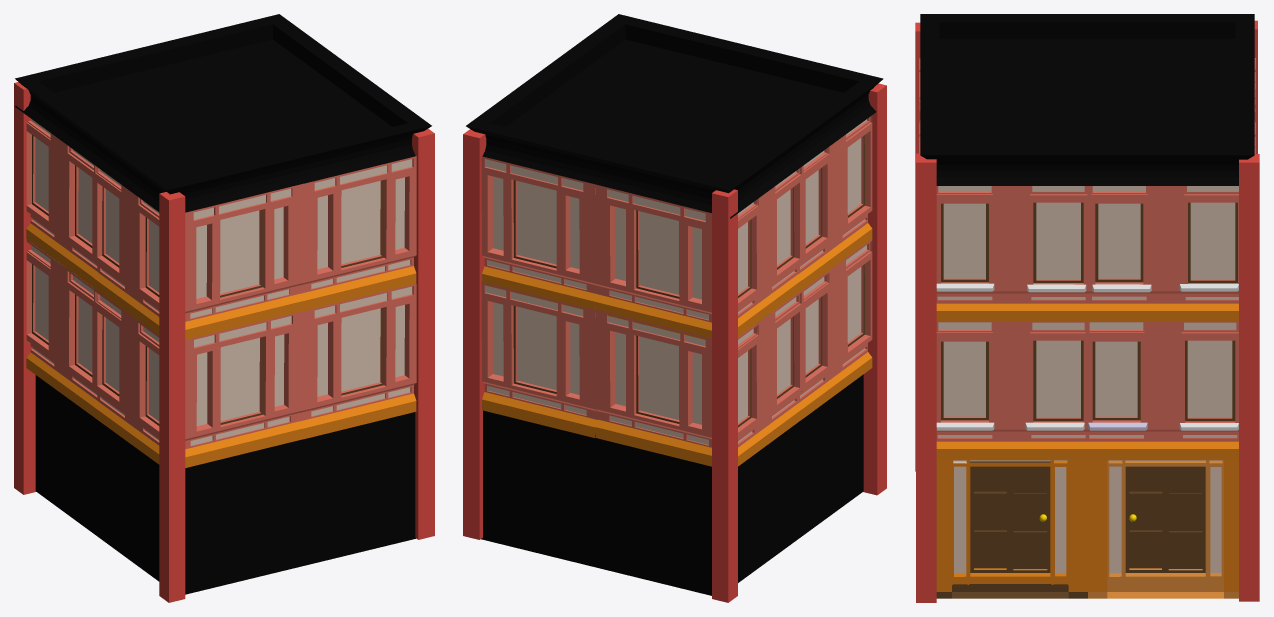
Rendered from blgd_orangetall.fbx.
3 renders of one model, left to right at view 1: azimuth 30°, elevation 25°; view 2: azimuth 150°, elevation 25°; view 3: azimuth 270°, elevation 25°, orthographic. The views are drawn at different scales.
Parts seen in each view (by area): view 1: Cube.008, Plane.017, Plane.014, Plane.010, Plane.011, Plane.039, Plane.018, pillar3, Plane.040, Plane.041, Plane.019, Plane.020 (+2 smaller); view 2: Cube.008, Plane, Plane.012, Plane.038, Plane.018, Plane.007, Plane.037, pillar2, Plane.041, Plane.020, Plane.040, Plane.019 (+2 smaller); view 3: Cube.008, Plane.016, Plane.001, Plane.002, Plane.006, Plane.003, Plane.004, pillar4, pillar1, pillar3, Cube.001, Cube.002 (+6 smaller).
Boxes of the visible parts, box(x1,y1,x2,y2) form: Cube.008: box(15, 14, 431, 212); Plane.017: box(185, 412, 415, 594); Plane.014: box(185, 311, 302, 467); Plane.010: box(185, 183, 303, 339); Plane.011: box(300, 283, 416, 439); Plane.039: box(300, 156, 416, 311); Plane.018: box(35, 375, 159, 581); pillar3: box(159, 192, 185, 602); Plane.040: box(26, 240, 98, 416); Plane.041: box(94, 289, 159, 464); Plane.019: box(26, 119, 98, 287); Plane.020: box(94, 165, 159, 335); Cube.008: box(466, 14, 883, 218); Plane: box(481, 410, 711, 595); Plane.012: box(595, 309, 711, 466); Plane.038: box(595, 184, 711, 339); Plane.018: box(738, 374, 863, 582); Plane.007: box(481, 282, 597, 437); Plane.037: box(481, 156, 597, 312); pillar2: box(712, 189, 737, 602); Plane.041: box(798, 239, 872, 418); Plane.020: box(798, 115, 872, 289); Plane.040: box(738, 290, 802, 466); Plane.019: box(738, 166, 802, 336); Cube.008: box(920, 14, 1254, 185); Plane.016: box(936, 460, 1087, 598); Plane.001: box(1088, 460, 1238, 598); Plane.002: box(1085, 322, 1238, 460); Plane.006: box(936, 322, 1089, 460); Plane.003: box(936, 186, 1089, 321); Plane.004: box(1088, 186, 1238, 321); pillar4: box(916, 153, 936, 602); pillar1: box(1239, 154, 1259, 601); pillar3: box(915, 22, 920, 471); Cube.001: box(1088, 422, 1147, 430); Cube.002: box(1025, 422, 1084, 430).
Bounding box in the file's own units: 2.16 × 3.18 × 2.21.
